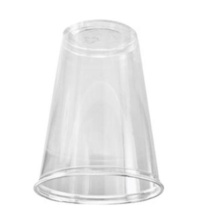glass: (24, 16, 174, 212)
